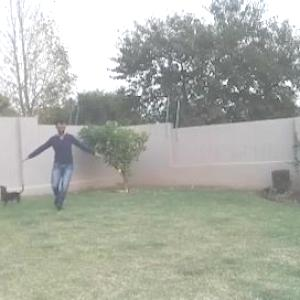land: (32, 111, 117, 212)
